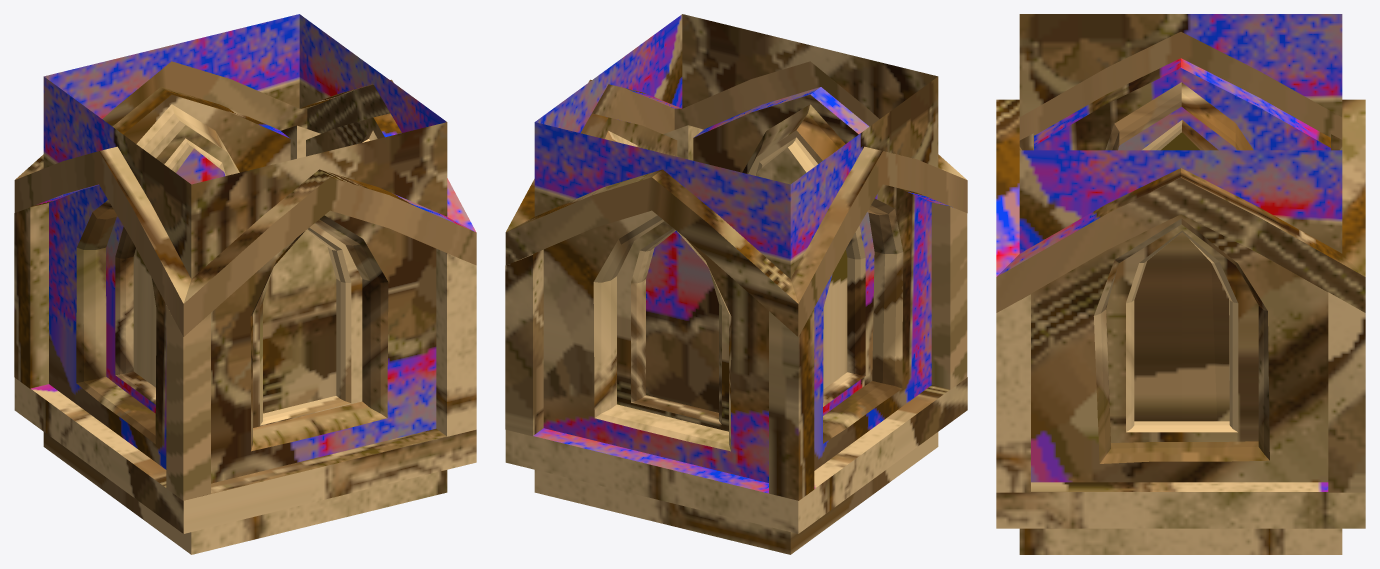
The model's file is SM_Columna3Base.fbx.
3 views of the same model, side by side, from view 1: azimuth 30°, elevation 25°; view 2: azimuth 150°, elevation 25°; view 3: azimuth 270°, elevation 25° (orthographic). The views are drawn at different scales.
Parts seen in each view (by area): view 1: SM_Columna3Base; view 2: SM_Columna3Base; view 3: SM_Columna3Base.
Part boxes in pixels (bbox=[...]): SM_Columna3Base: bbox=[14, 14, 476, 554]; SM_Columna3Base: bbox=[505, 14, 967, 554]; SM_Columna3Base: bbox=[996, 14, 1365, 554].
Bounding box in the file's own units: 82.8 × 100 × 82.76.
